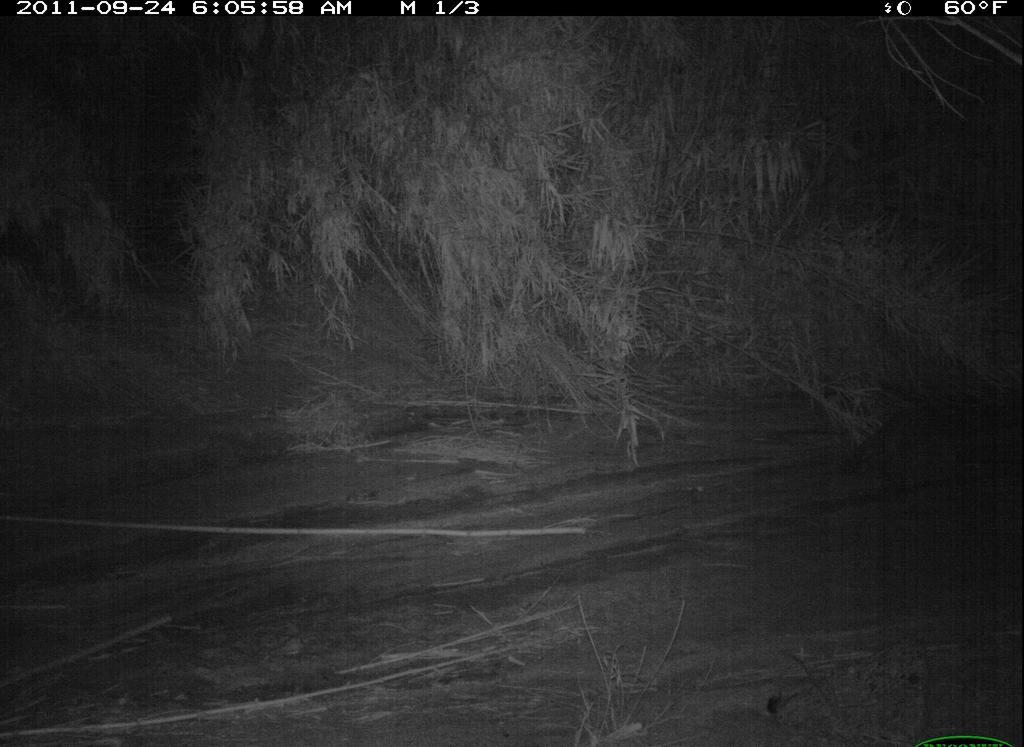raccoon: (822, 376, 1024, 502)
